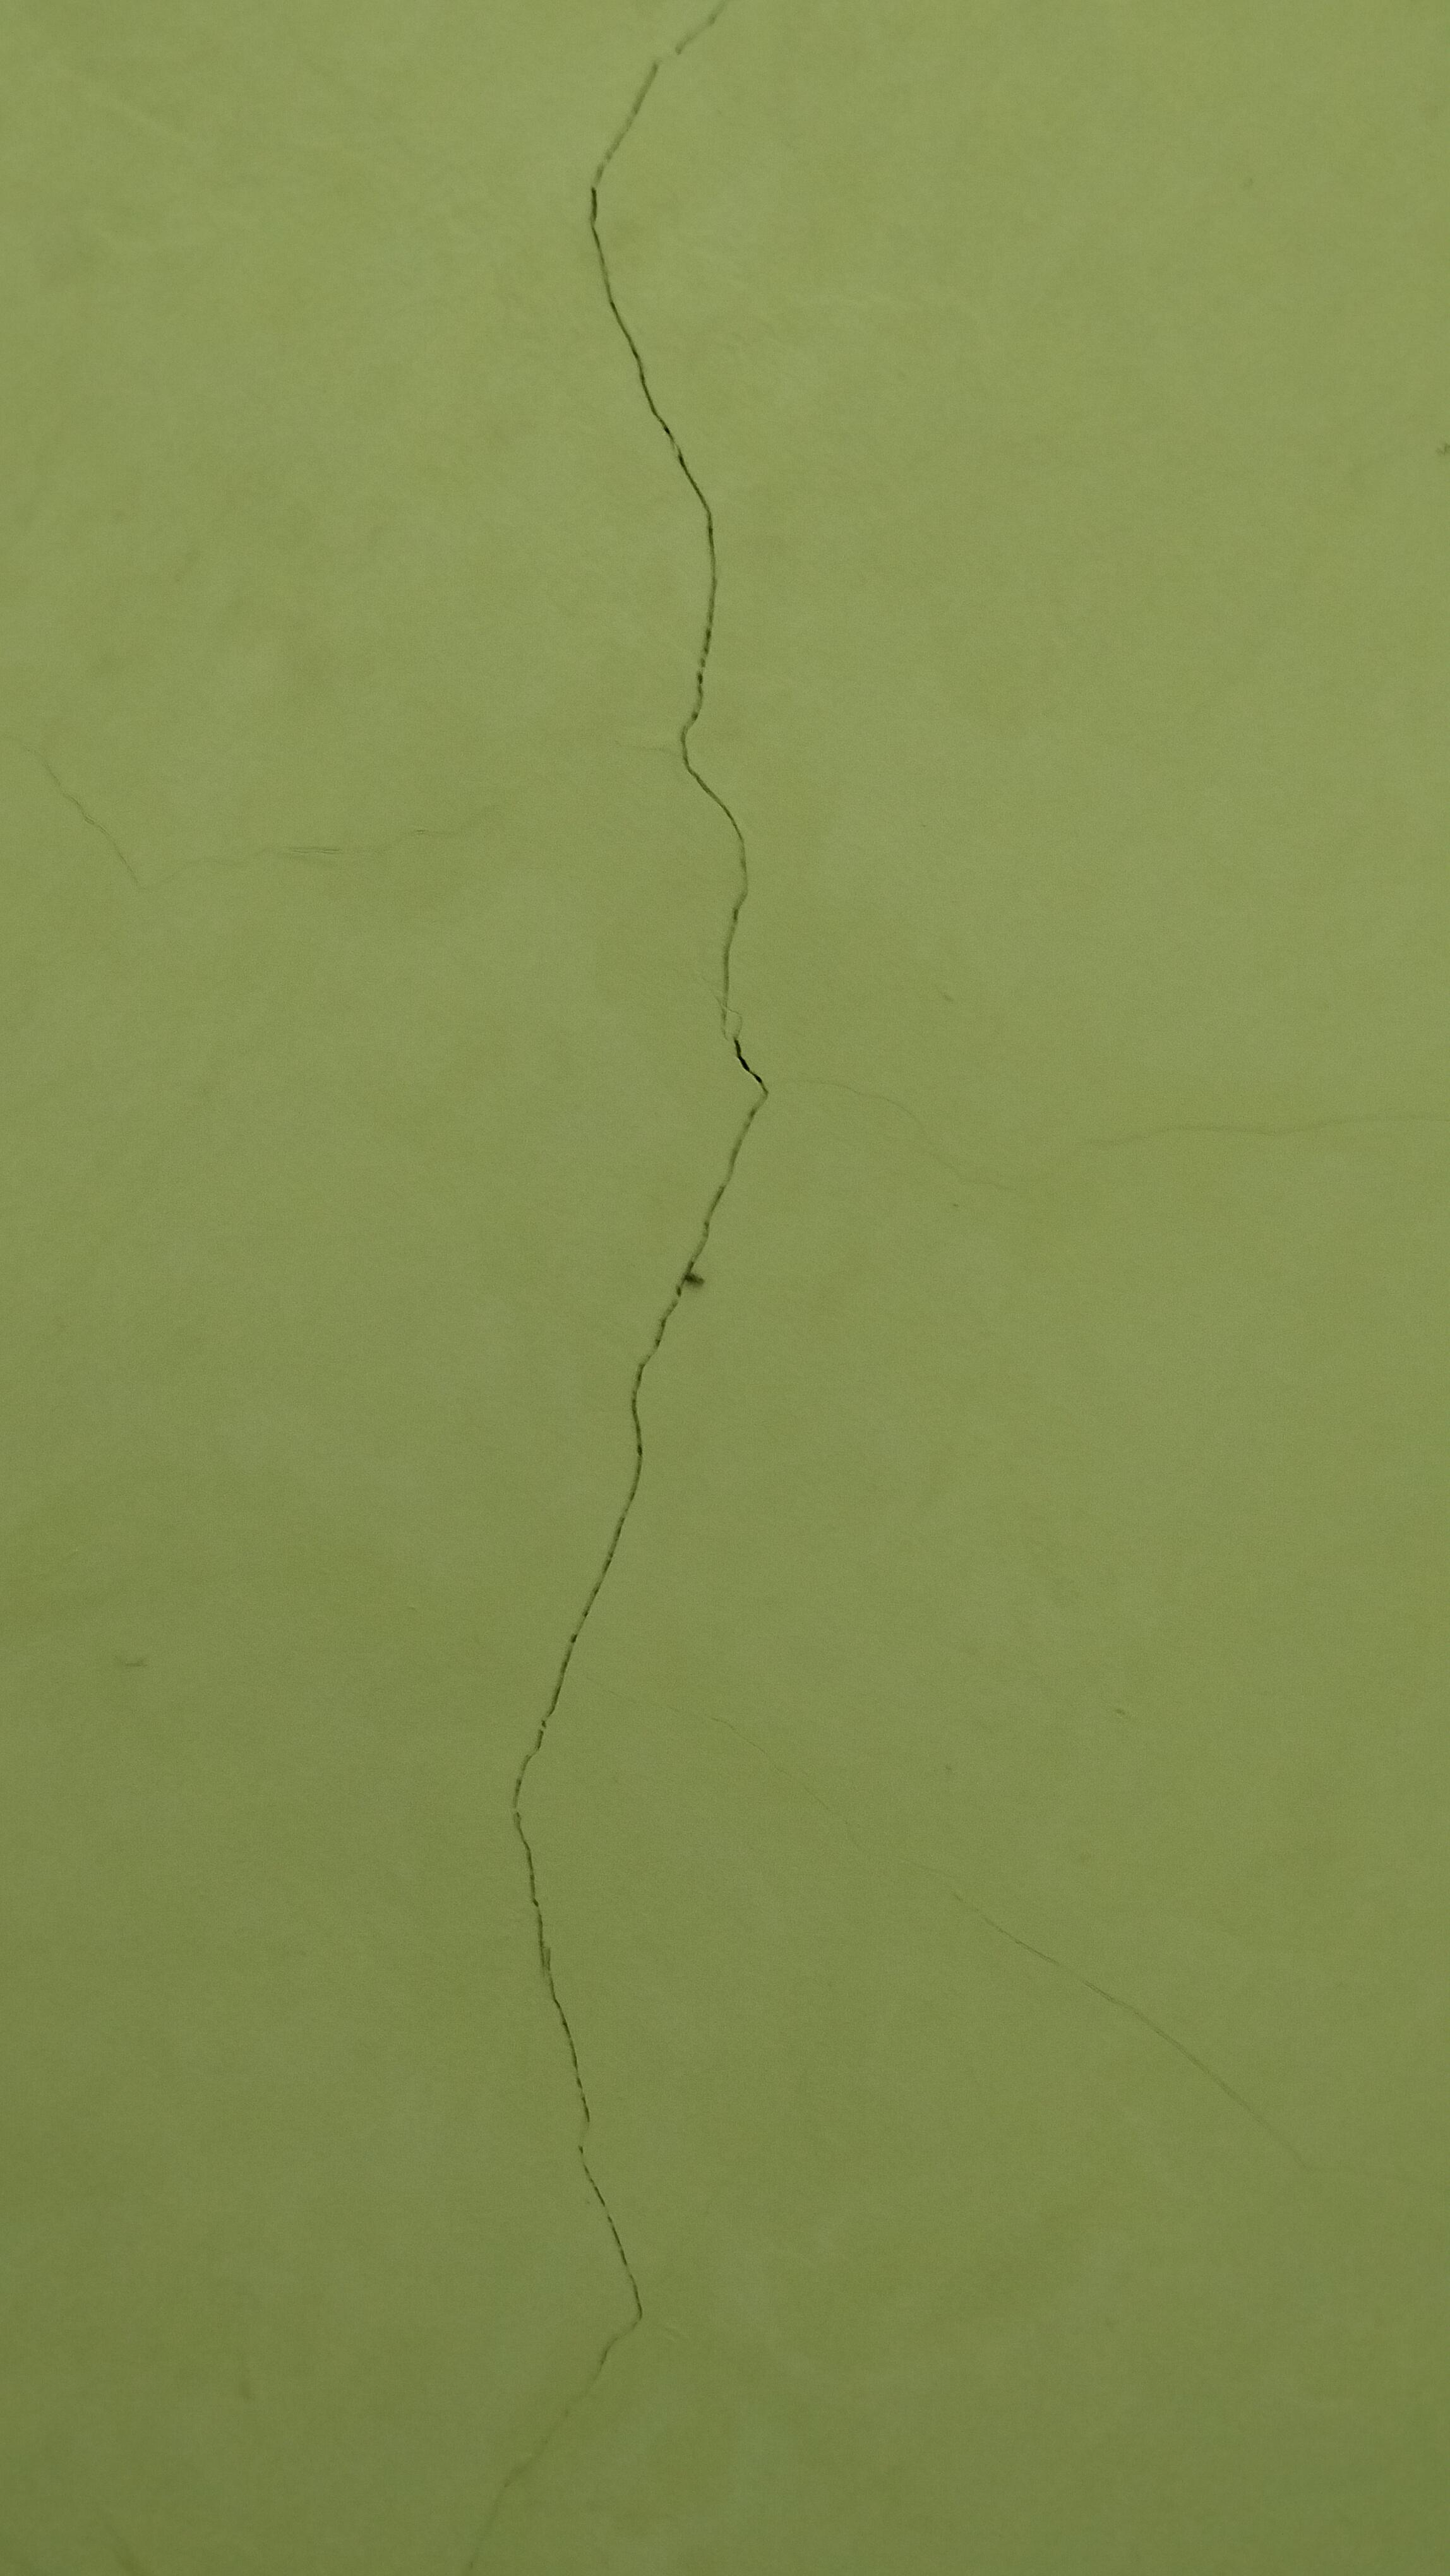Crack: (487, 1067, 809, 2495), (531, 0, 866, 1143)
